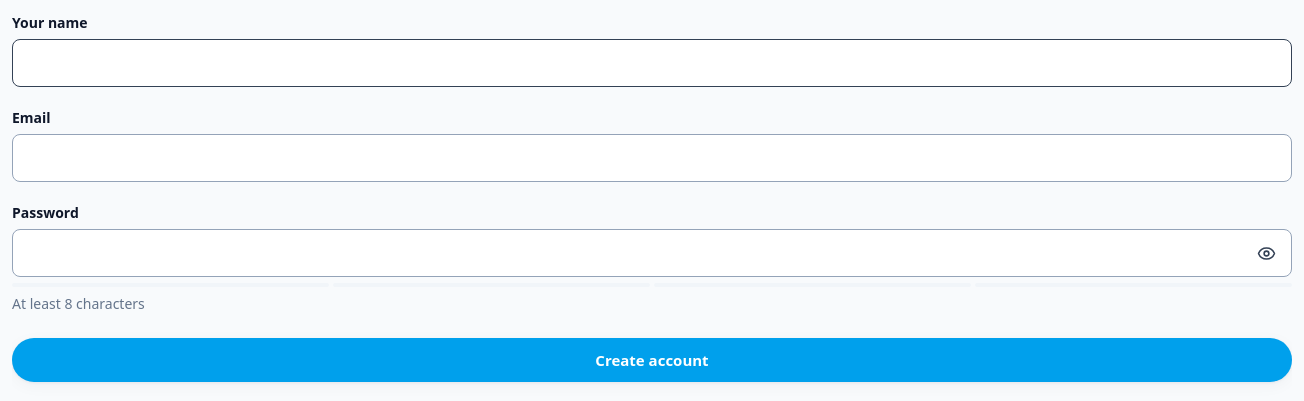
Test case: P8 helpers › register shows a strength meter and a show-password toggle
Type "Abcdefgh1!xyz" into the password field labelled "Password" at (652, 253), box x1=12 y1=229 x2=1292 y2=277
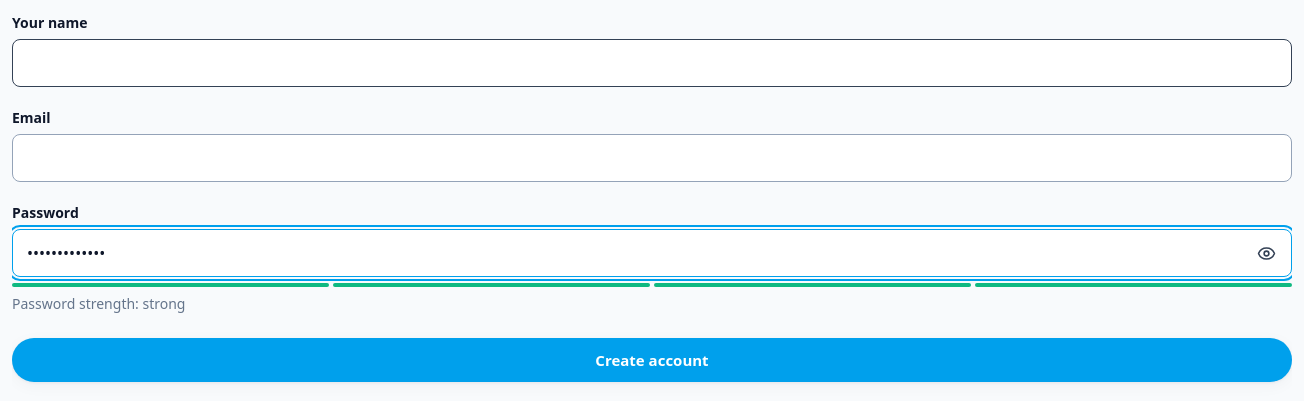
Expected: the text "Password strength: strong" is shown, x1=12 y1=294 x2=186 y2=313
Click the button named "Show password" at (1266, 253), box x1=1244 y1=231 x2=1288 y2=275
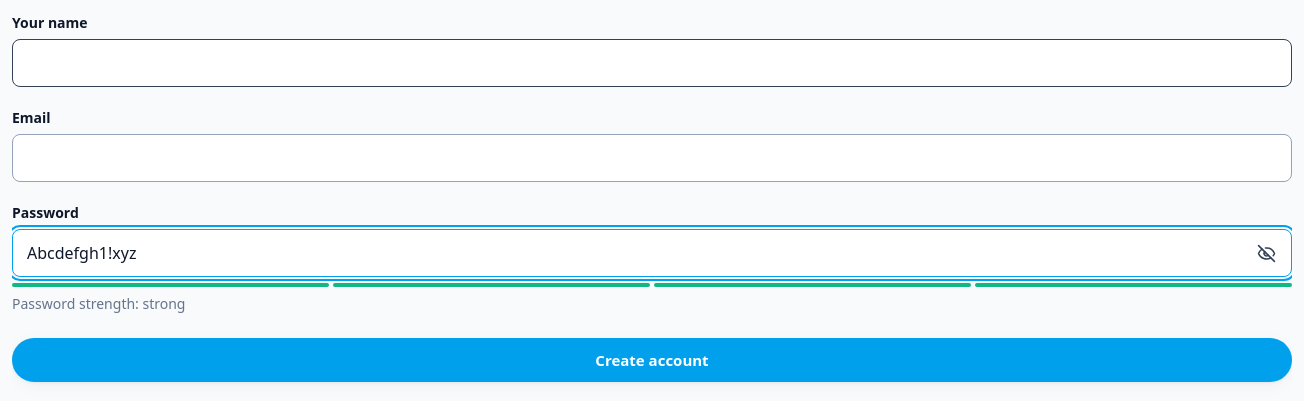
Expected: the field labelled "Password" shows its text, x1=12 y1=229 x2=1292 y2=277
